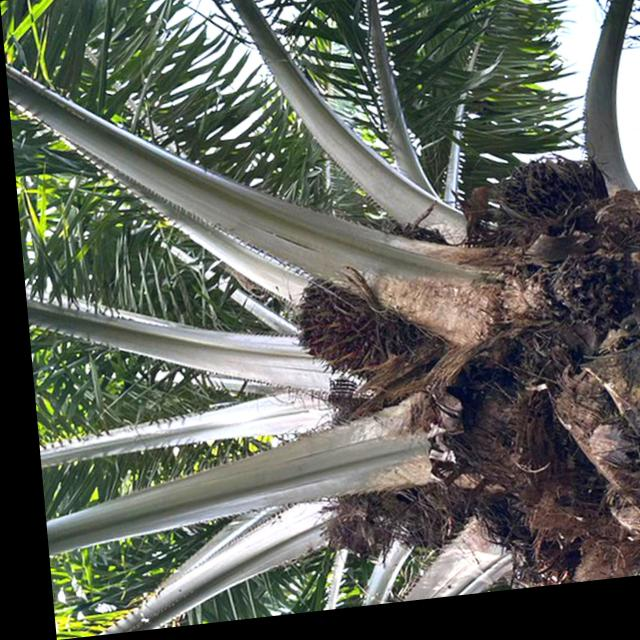ripe: (271, 260, 426, 393)
